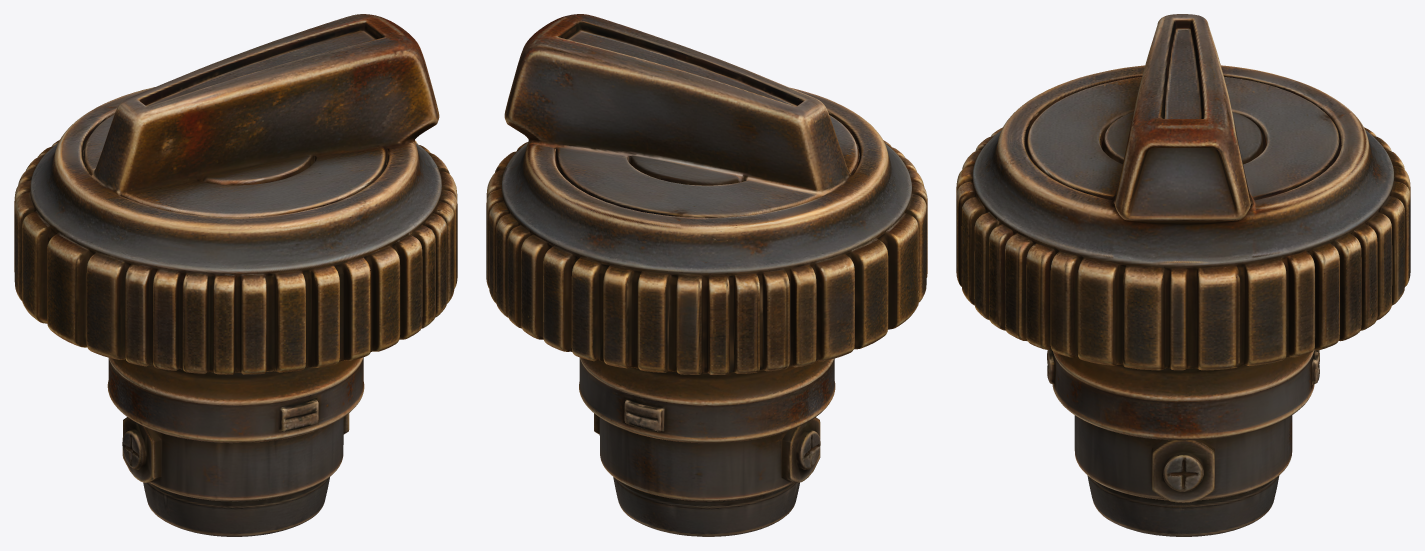
The model's file is adjuster.glb.
3 views of the same model, side by side, from view 1: azimuth 30°, elevation 25°; view 2: azimuth 150°, elevation 25°; view 3: azimuth 270°, elevation 25° (orthographic). The views are drawn at different scales.
Parts seen in each view (by area): view 1: Mesh_0; view 2: Mesh_0; view 3: Mesh_0.
Boxes of the visible parts, x1=… form: Mesh_0: x1=14, y1=14, x2=457, y2=536; Mesh_0: x1=486, y1=14, x2=927, y2=536; Mesh_0: x1=956, y1=14, x2=1410, y2=536.
Size of the model in its own units: 0.8709 by 0.9565 by 0.8693.
Materials: 1 (1 with a texture image).
